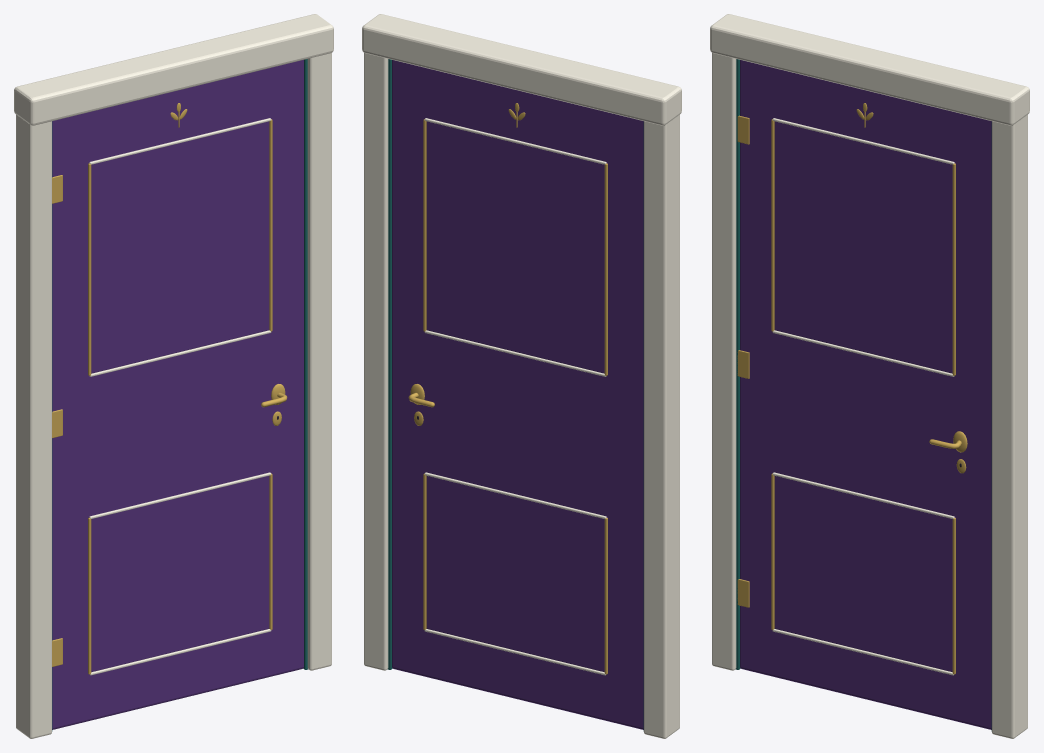
Rendered from service_door.glb.
3 renders of one model, left to right at view 1: azimuth 30°, elevation 25°; view 2: azimuth 150°, elevation 25°; view 3: azimuth 330°, elevation 25°, orthographic.
Parts seen in each view (by area): view 1: Solid_leaf, Recessed_panel.003, Recessed_panel.002, Cream_door_jamb, Cream_door_jamb.001, Cream_door_header, Teal_frame_liner.001, Inset_vertical_bead.006, Inset_vertical_bead.007, Inset_horizontal_bead.007, Inset_horizontal_bead.005, Inset_horizontal_bead.004 (+4 smaller); view 2: Solid_leaf, Recessed_panel.001, Recessed_panel, Cream_door_jamb, Cream_door_jamb.001, Cream_door_header, Teal_frame_liner.001, Inset_vertical_bead.003, Inset_vertical_bead.002, Inset_horizontal_bead.003, Inset_horizontal_bead.001, Inset_horizontal_bead (+4 smaller); view 3: Solid_leaf, Recessed_panel.003, Recessed_panel.002, Cream_door_jamb.001, Cream_door_jamb, Cream_door_header, Teal_frame_liner, Inset_vertical_bead.007, Inset_vertical_bead.006, Inset_horizontal_bead.007, Inset_horizontal_bead.005, Inset_horizontal_bead.004 (+4 smaller).
Boxes of the visible parts, left/top/right/bottom form: Solid_leaf: left=52, top=60, right=303, bottom=729; Recessed_panel.003: left=88, top=121, right=269, bottom=373; Recessed_panel.002: left=88, top=476, right=269, bottom=671; Cream_door_jamb: left=16, top=87, right=51, bottom=738; Cream_door_jamb.001: left=307, top=14, right=331, bottom=670; Cream_door_header: left=14, top=14, right=333, bottom=125; Teal_frame_liner.001: left=303, top=59, right=308, bottom=669; Inset_vertical_bead.006: left=88, top=163, right=91, bottom=375; Inset_vertical_bead.007: left=269, top=119, right=272, bottom=331; Inset_horizontal_bead.007: left=89, top=118, right=271, bottom=164; Inset_horizontal_bead.005: left=89, top=472, right=271, bottom=518; Inset_horizontal_bead.004: left=90, top=629, right=271, bottom=675; Solid_leaf: left=392, top=60, right=643, bottom=729; Recessed_panel.001: left=426, top=121, right=607, bottom=373; Recessed_panel: left=426, top=476, right=607, bottom=671; Cream_door_jamb: left=644, top=87, right=679, bottom=738; Cream_door_jamb.001: left=364, top=14, right=388, bottom=670; Cream_door_header: left=362, top=14, right=681, bottom=125; Teal_frame_liner.001: left=387, top=59, right=392, bottom=669; Inset_vertical_bead.003: left=604, top=163, right=607, bottom=375; Inset_vertical_bead.002: left=423, top=119, right=426, bottom=331; Inset_horizontal_bead.003: left=424, top=118, right=606, bottom=164; Inset_horizontal_bead.001: left=424, top=472, right=606, bottom=518; Inset_horizontal_bead: left=424, top=629, right=605, bottom=675; Solid_leaf: left=740, top=60, right=991, bottom=729; Recessed_panel.003: left=774, top=121, right=955, bottom=373; Recessed_panel.002: left=774, top=476, right=955, bottom=671; Cream_door_jamb.001: left=992, top=87, right=1027, bottom=738; Cream_door_jamb: left=712, top=14, right=736, bottom=670; Cream_door_header: left=710, top=14, right=1029, bottom=125; Teal_frame_liner: left=735, top=59, right=740, bottom=669; Inset_vertical_bead.007: left=952, top=163, right=955, bottom=375; Inset_vertical_bead.006: left=771, top=119, right=774, bottom=331; Inset_horizontal_bead.007: left=772, top=118, right=954, bottom=164; Inset_horizontal_bead.005: left=772, top=472, right=954, bottom=518; Inset_horizontal_bead.004: left=772, top=629, right=953, bottom=675.
Size of the model in its own units: 1.14 by 2.3 by 0.198.
